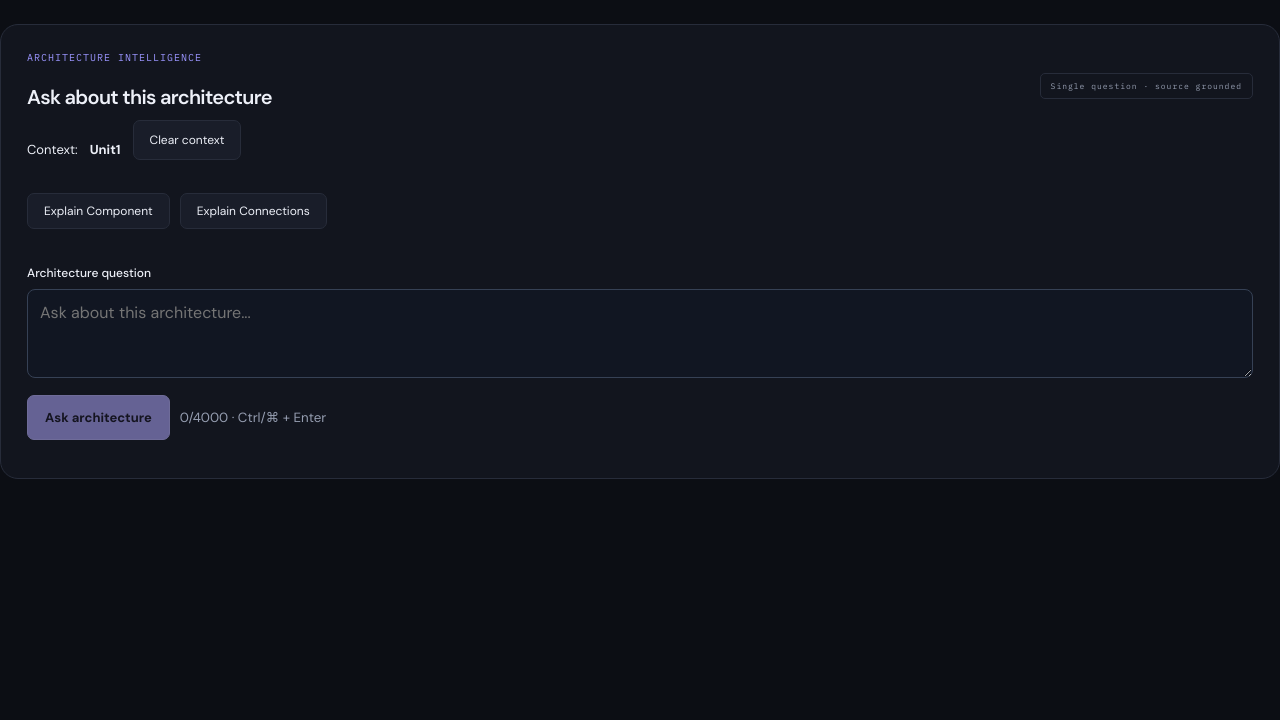
Scenario: selected request sends only ID question and snapshot
The width and height of the screenshot is (1280, 720).
In the text box labelled "Architecture question": (640, 334) [27,289,1253,378], type "How does this work?"
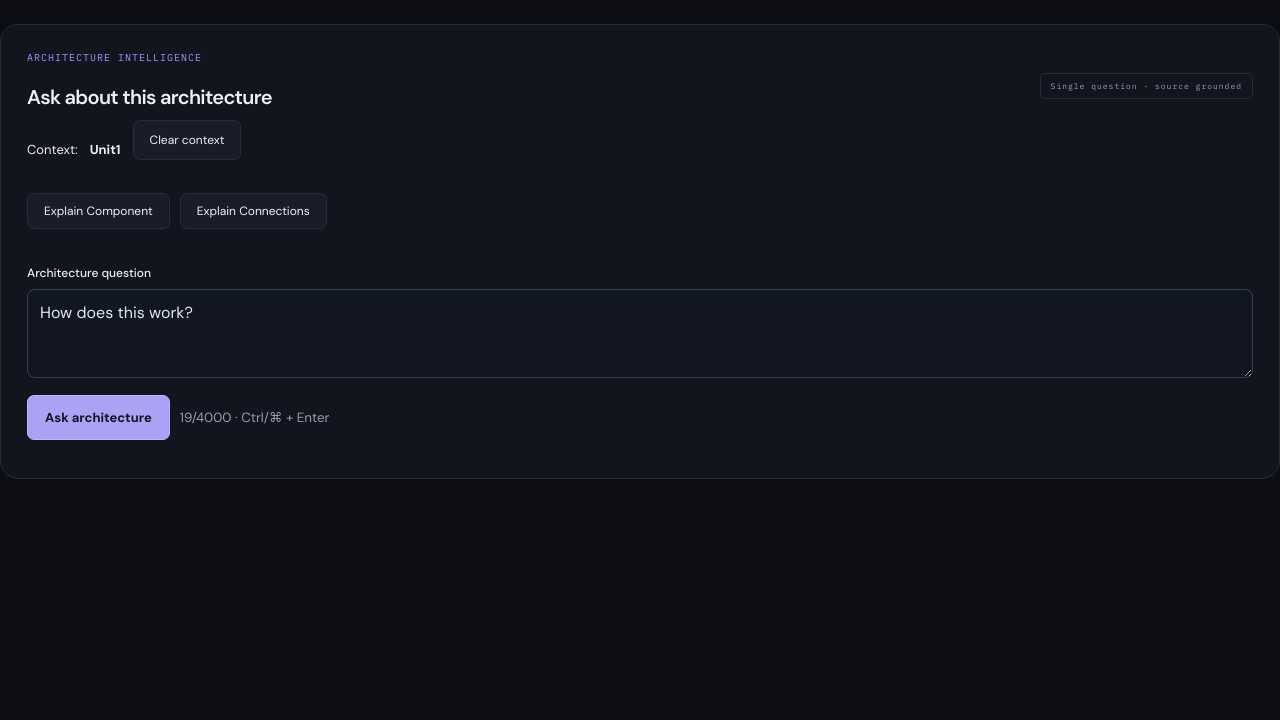
Click the button "Ask architecture": (98, 418) [27,395,170,440]
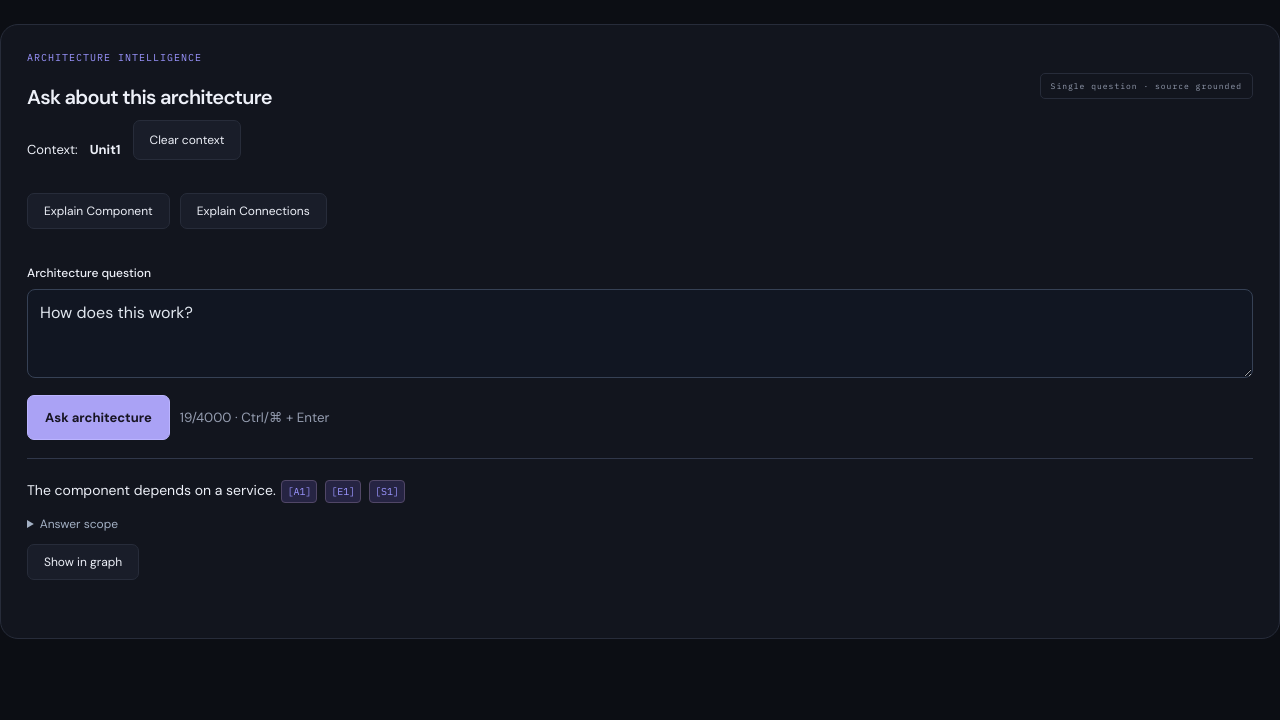
Now the button named "Go to citation A1" is shown, box [281,480,317,503]
